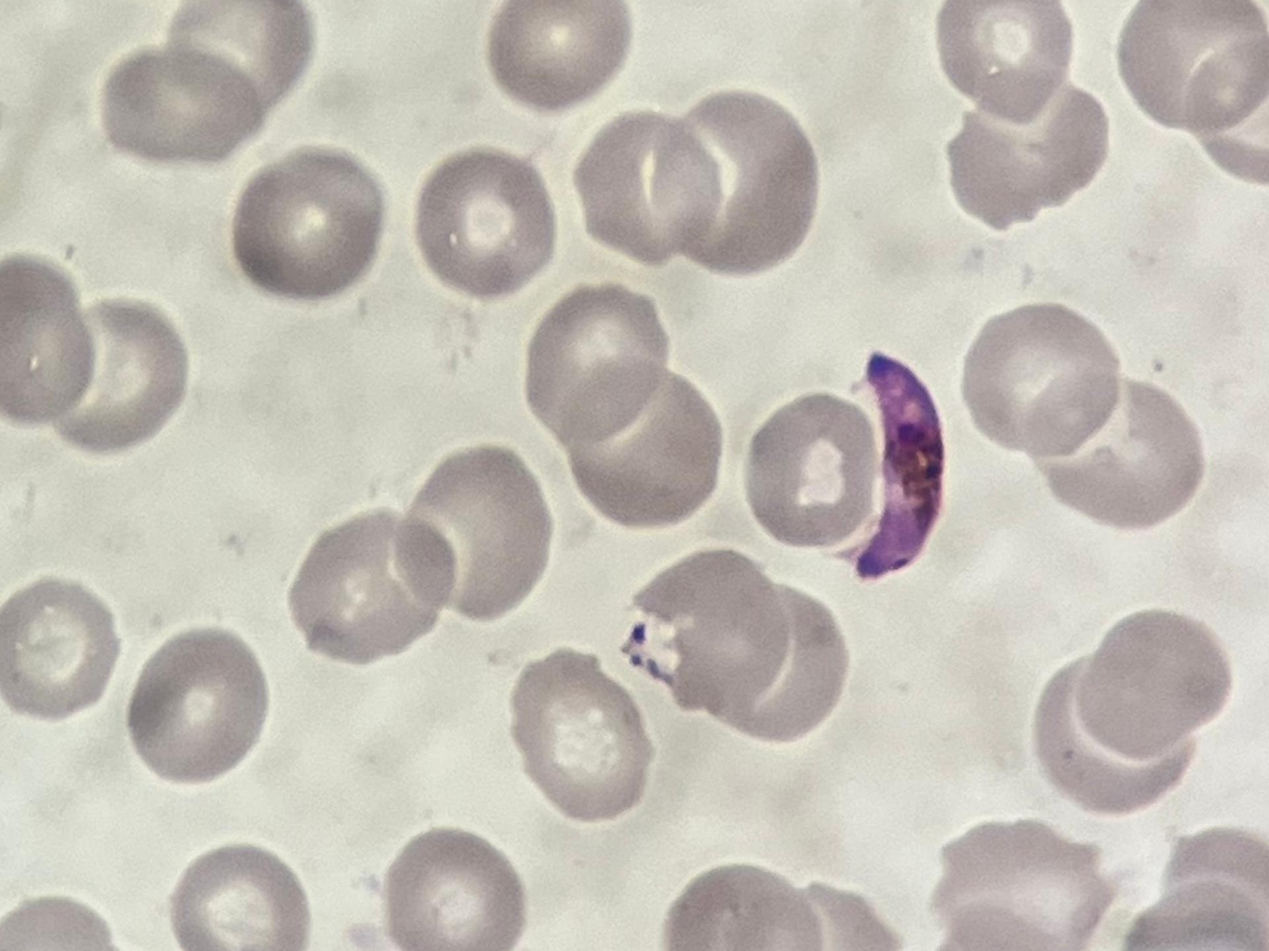Infected: (620, 549, 792, 720), (834, 349, 942, 584)
Uninfected: (648, 86, 822, 277), (393, 445, 553, 619), (1023, 375, 1202, 528), (562, 356, 721, 528), (692, 585, 851, 748), (1033, 656, 1197, 812), (288, 513, 454, 667), (962, 303, 1123, 460), (947, 75, 1112, 228), (932, 815, 1116, 951), (1077, 607, 1231, 761), (512, 651, 652, 820), (231, 144, 384, 298), (572, 111, 721, 269), (41, 303, 190, 453), (522, 286, 666, 440), (417, 144, 558, 297), (127, 628, 265, 783), (742, 390, 877, 546), (1114, 0, 1269, 133), (101, 47, 262, 166), (383, 826, 524, 951), (169, 0, 314, 119), (935, 0, 1073, 125), (0, 251, 95, 429), (486, 0, 634, 111), (0, 579, 110, 717), (169, 843, 309, 951), (661, 859, 823, 951)
